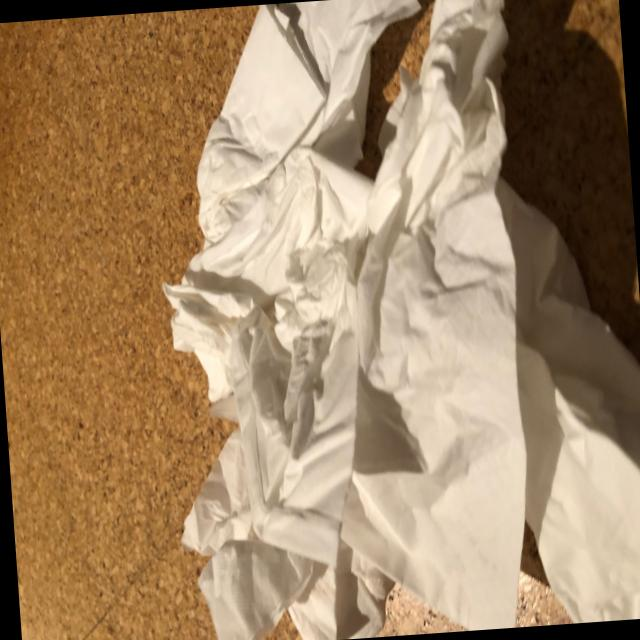organic waste: (302, 0, 543, 639), (484, 162, 640, 627), (176, 0, 439, 253), (158, 255, 346, 578), (168, 420, 352, 640)
